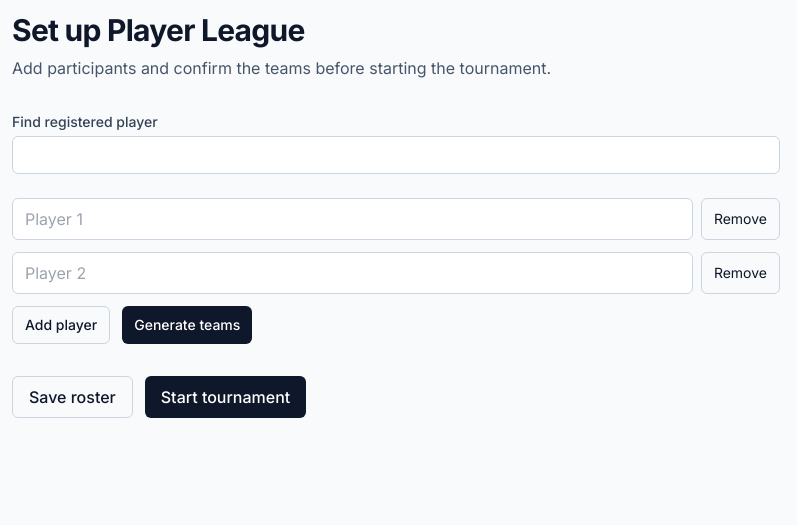
Test: TournamentSetupForm › blocks team round-robin player setup when the player count is not exact
Click the button "Add player" at (61, 325), box [12, 306, 110, 344]
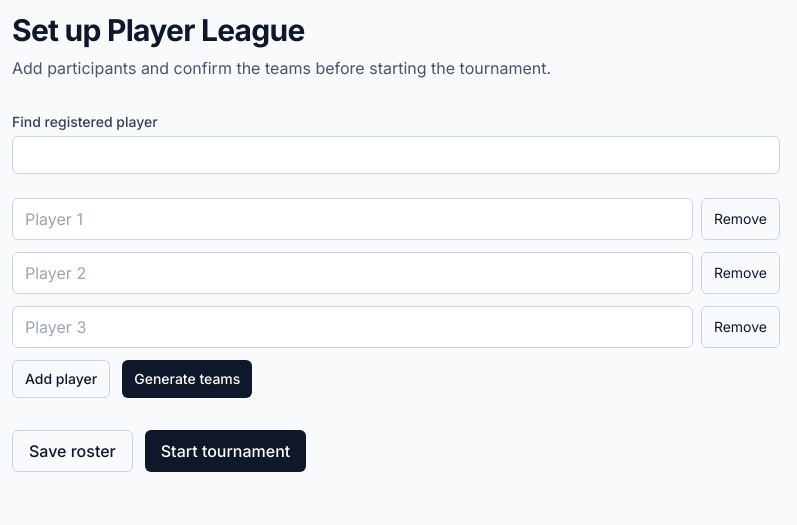
Type "Alice" into the field labelled "Player 1" at (352, 219), box [12, 198, 693, 240]
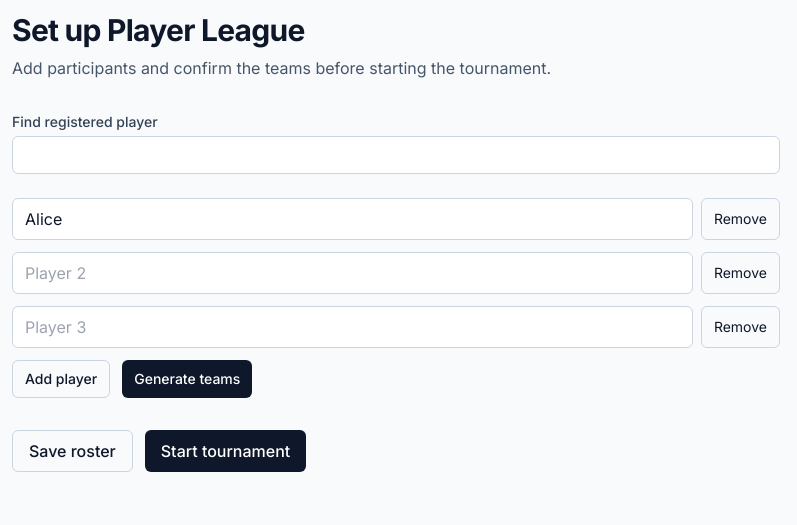
Type "Bob" into the field labelled "Player 2" at (352, 273), box [12, 252, 693, 294]
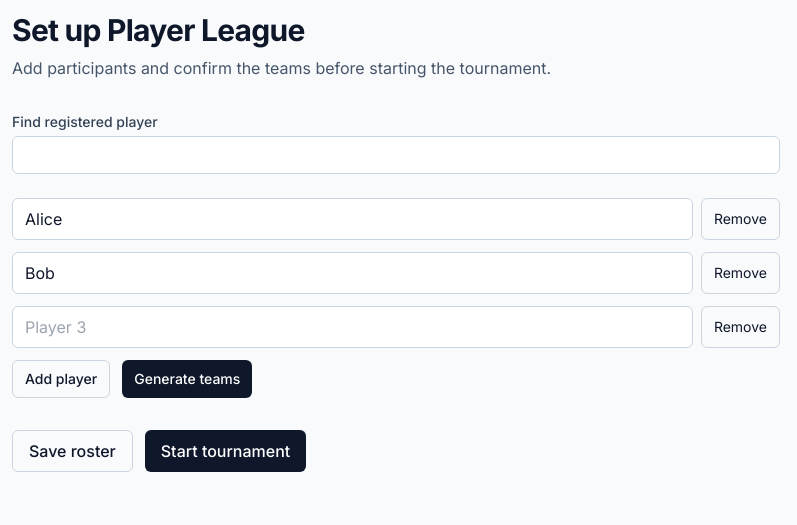
Type "Charlie" into the field labelled "Player 3" at (352, 327), box [12, 306, 693, 348]
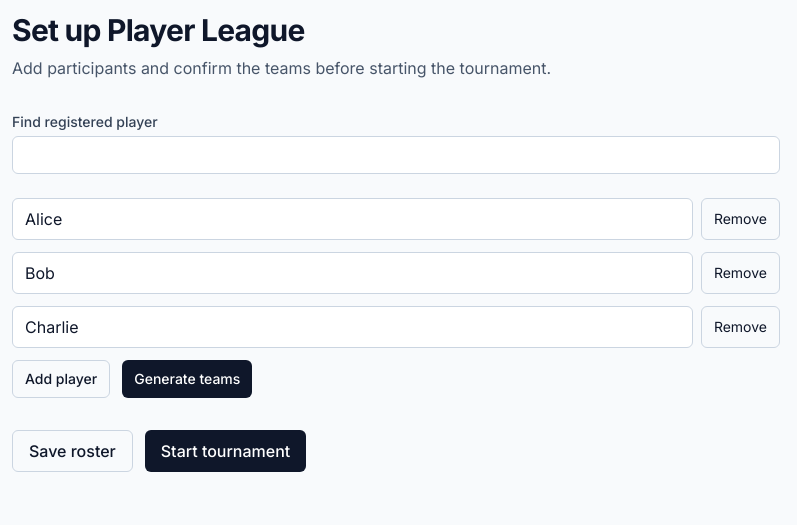
Click the button "Start tournament" at (226, 451), box [145, 430, 306, 472]
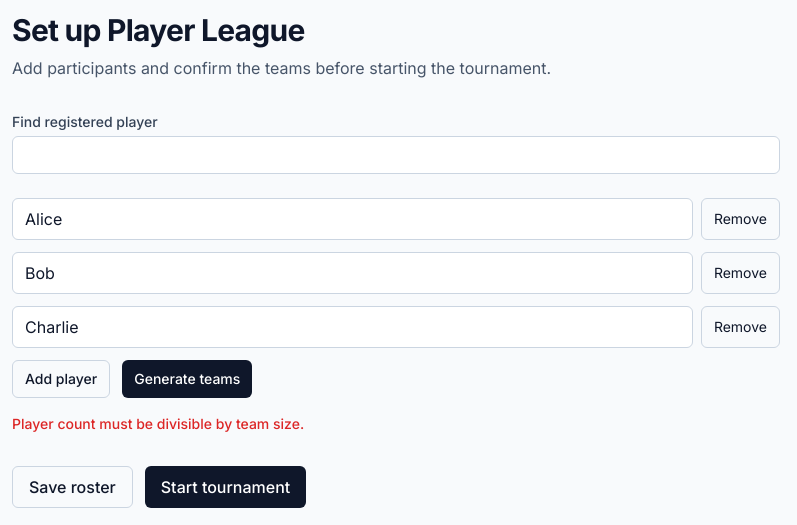
Check: the text "Player count must be divisible by team size." is shown, box [12, 415, 304, 432]
